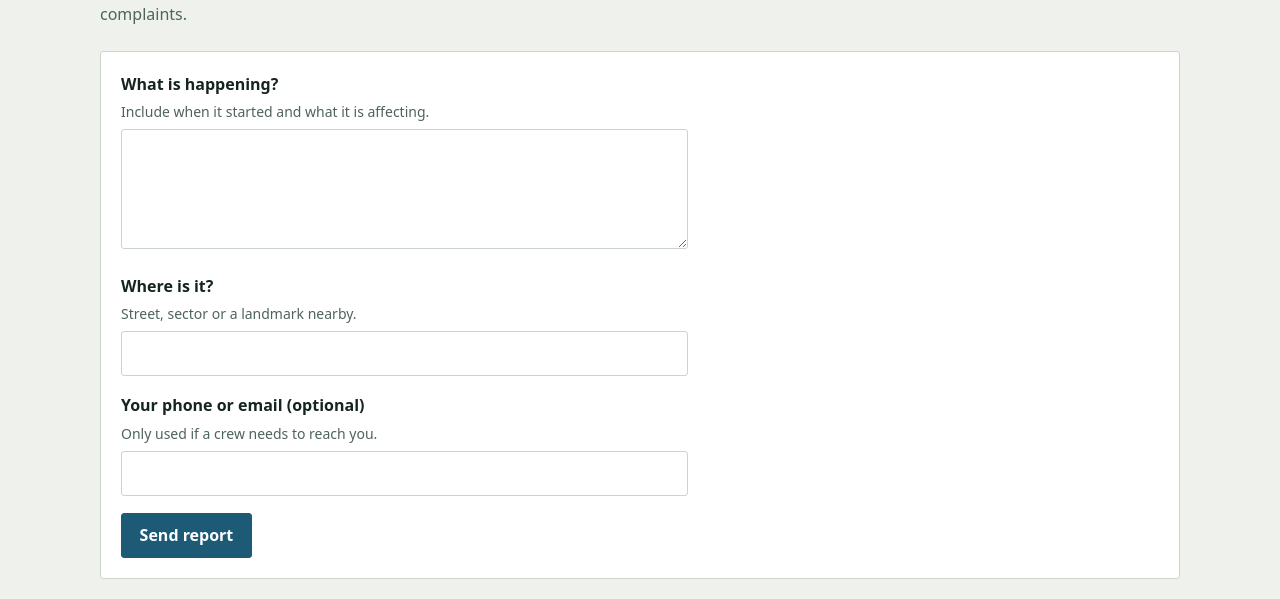
Test: Report a problem › shows the category, priority, summary and which provider decided them
Type "Burst water main flooding Street 12 since fajr." into the text box labelled "What is happening" at (405, 189), box [121,129,688,249]
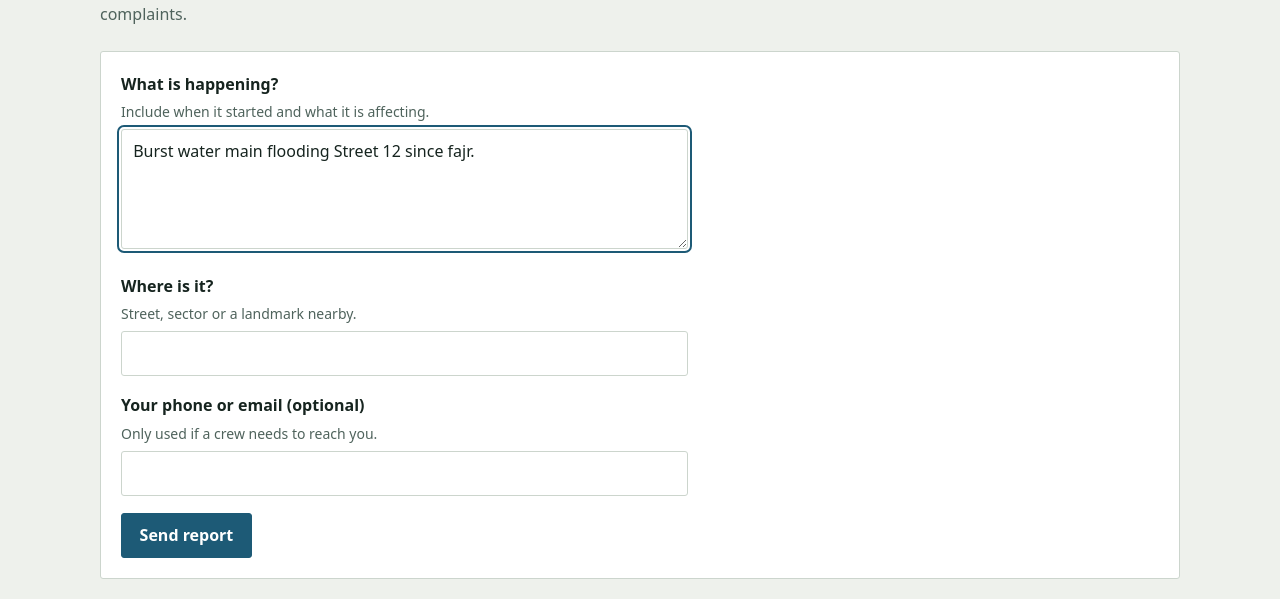
Type "Street 12, G-9/1" into the field labelled "Where is it? Street, sector or a landmark nearby." at (405, 354), box [121,332,688,376]
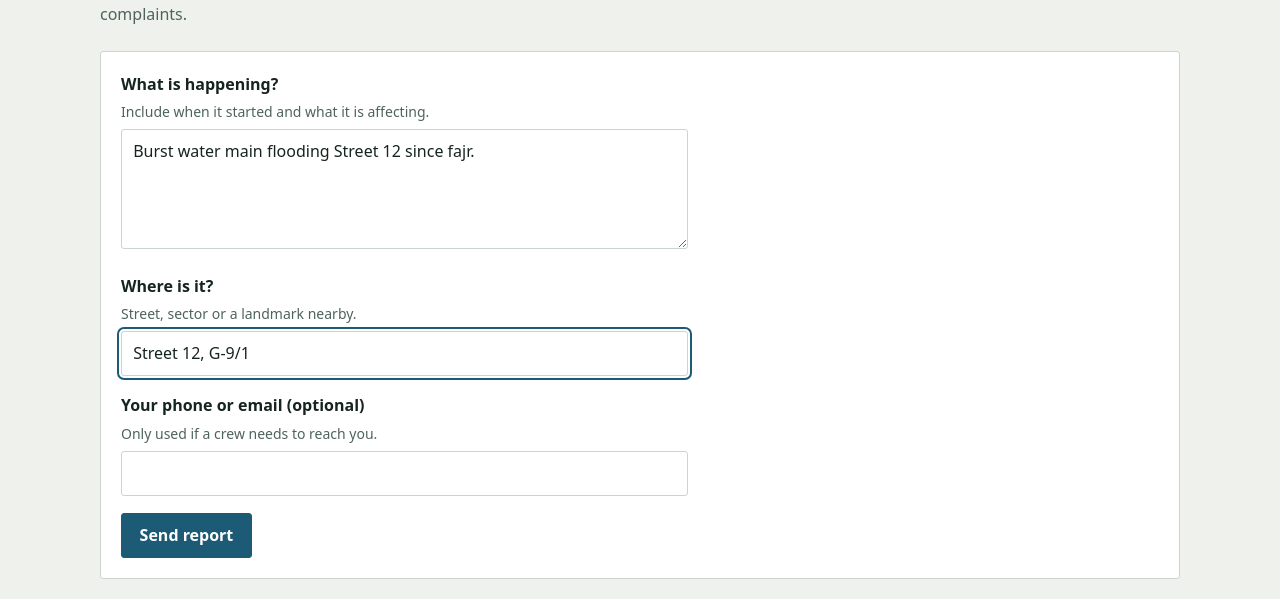
Click the button "Send report" at (186, 535), box [121,513,252,558]
(page scrolled)
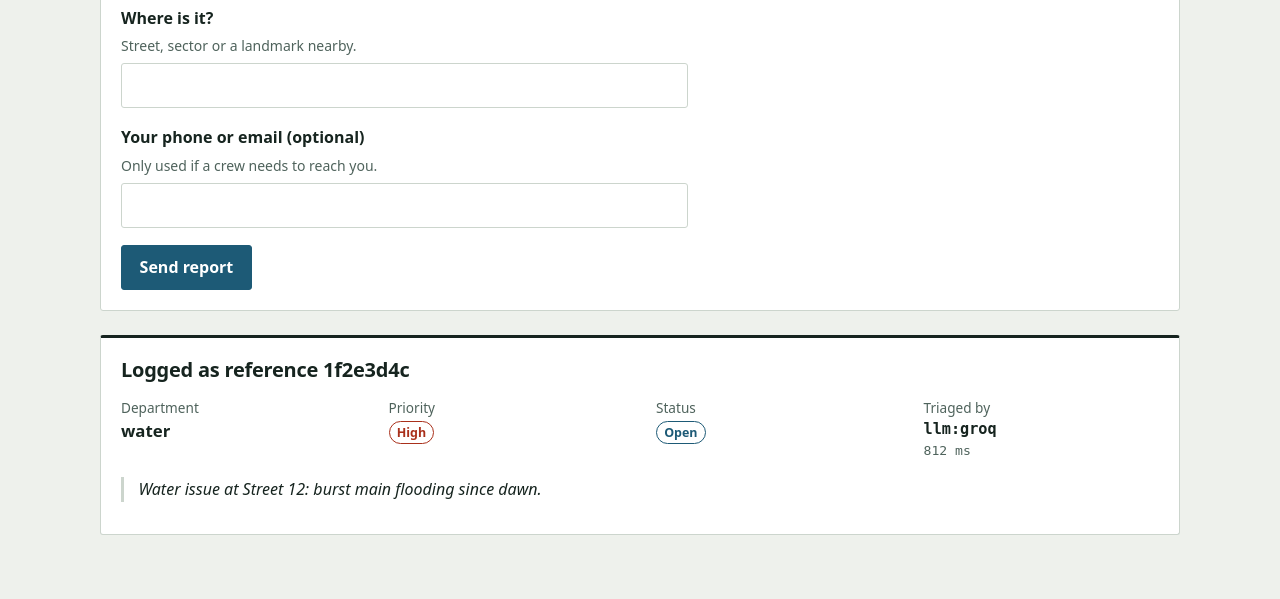
Expected: the heading "Logged as reference 1f2e3d4c" is shown, [121,356,410,382]
Expected: the text "water" is shown, [121,419,170,442]
Expected: the text "High" is shown, [388,421,434,444]
